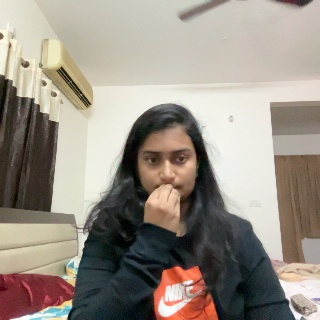Food: (143, 183, 181, 247)
